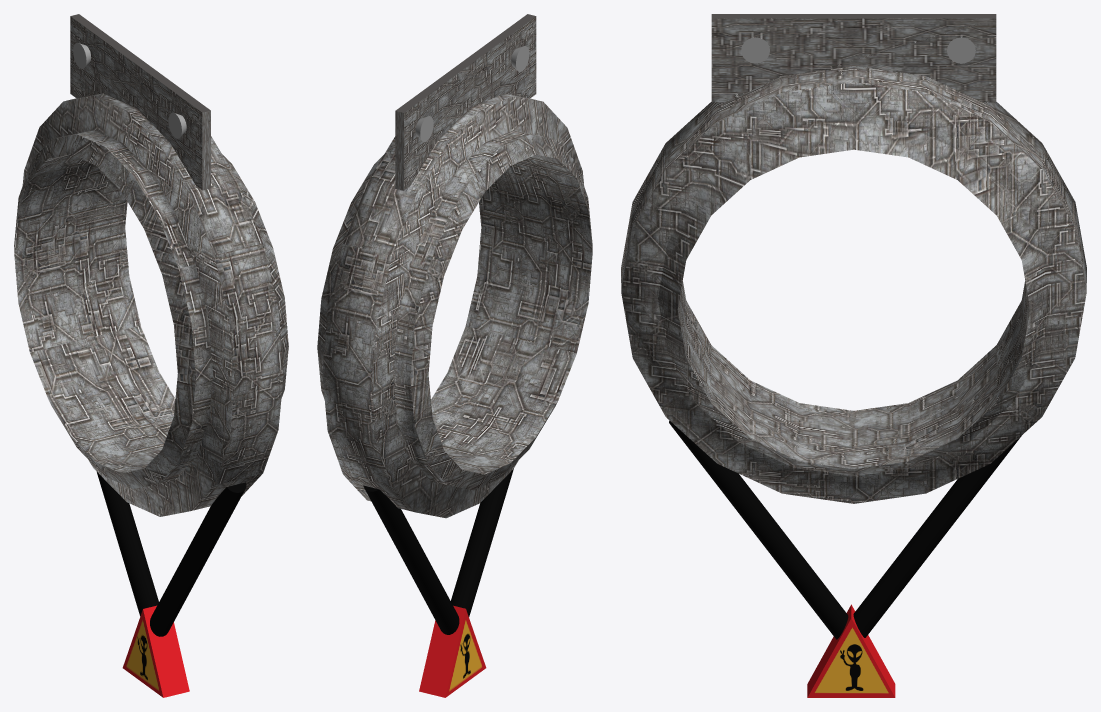
File: SpaceGate.fbx
The picture shows the model from 3 angles, left to right: view 1: azimuth 30°, elevation 25°; view 2: azimuth 150°, elevation 25°; view 3: azimuth 270°, elevation 25°; orthographic projection. The views are drawn at different scales.
Visible parts, largest first — view 1: Gate, Panel, Rope, Sign, Rope1; view 2: Gate, Panel, Rope1, Sign, Rope; view 3: Gate, Panel, Rope, Rope1, Sign.
Part boxes in pixels (x1=…): Gate: x1=14, y1=93, x2=288, y2=516; Panel: x1=70, y1=14, x2=210, y2=190; Rope: x1=150, y1=482, x2=246, y2=636; Sign: x1=122, y1=605, x2=189, y2=697; Rope1: x1=97, y1=472, x2=158, y2=616; Gate: x1=317, y1=93, x2=592, y2=518; Panel: x1=395, y1=14, x2=536, y2=190; Rope1: x1=363, y1=485, x2=459, y2=634; Sign: x1=419, y1=605, x2=486, y2=697; Rope: x1=451, y1=468, x2=513, y2=616; Gate: x1=621, y1=66, x2=1086, y2=503; Panel: x1=711, y1=14, x2=996, y2=102; Rope: x1=669, y1=420, x2=848, y2=639; Rope1: x1=853, y1=436, x2=1021, y2=637; Sign: x1=807, y1=604, x2=895, y2=697.
Size of the model in its own units: 31.73 by 169 by 107.
Materials: 4 (2 with a texture image).
